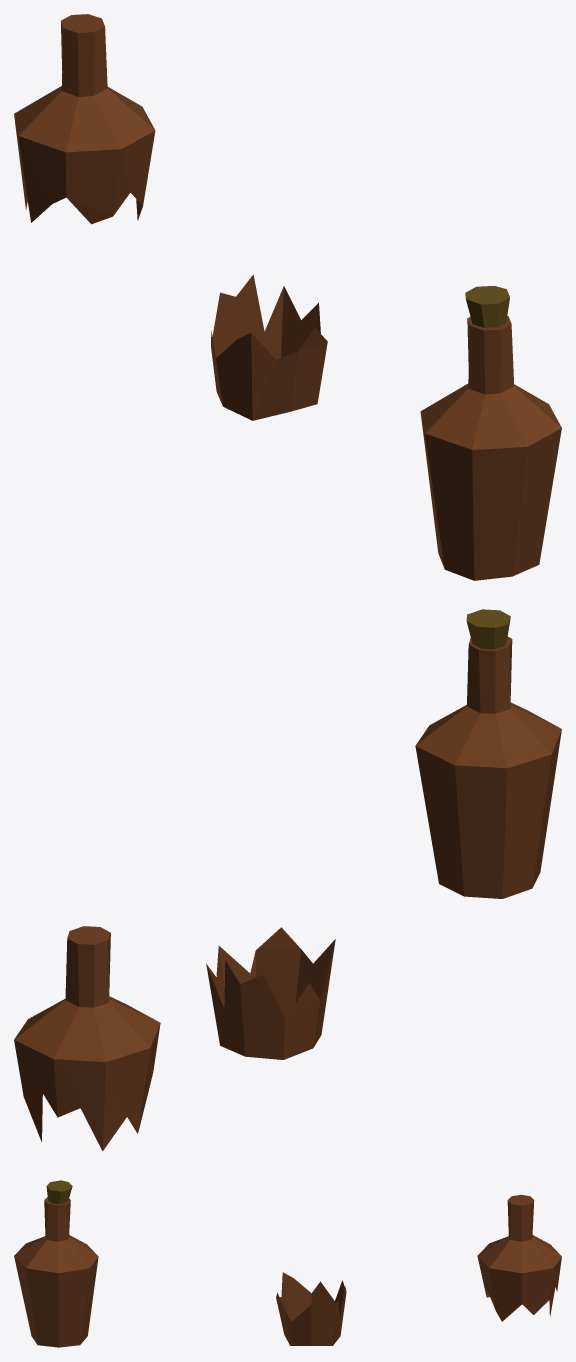
File: bottiglia.fbx
The picture shows the model from 3 angles, top to bottom: view 1: azimuth 30°, elevation 25°; view 2: azimuth 150°, elevation 25°; view 3: azimuth 270°, elevation 25°; orthographic projection. The views are drawn at different scales.
Visible parts, largest first — view 1: Cylinder, Cylinder.002, Cylinder.001; view 2: Cylinder, Cylinder.002, Cylinder.001; view 3: Cylinder, Cylinder.002, Cylinder.001.
Part boxes in pixels (box(x1,y1,x2,y2)): Cylinder: box(420, 286, 561, 580); Cylinder.002: box(14, 14, 155, 224); Cylinder.001: box(211, 274, 327, 420); Cylinder: box(415, 609, 561, 898); Cylinder.002: box(14, 926, 160, 1151); Cylinder.001: box(206, 927, 335, 1059); Cylinder: box(14, 1180, 98, 1347); Cylinder.002: box(477, 1194, 561, 1321); Cylinder.001: box(276, 1272, 346, 1345).
Size of the model in its own units: 194 by 397 by 1301.
